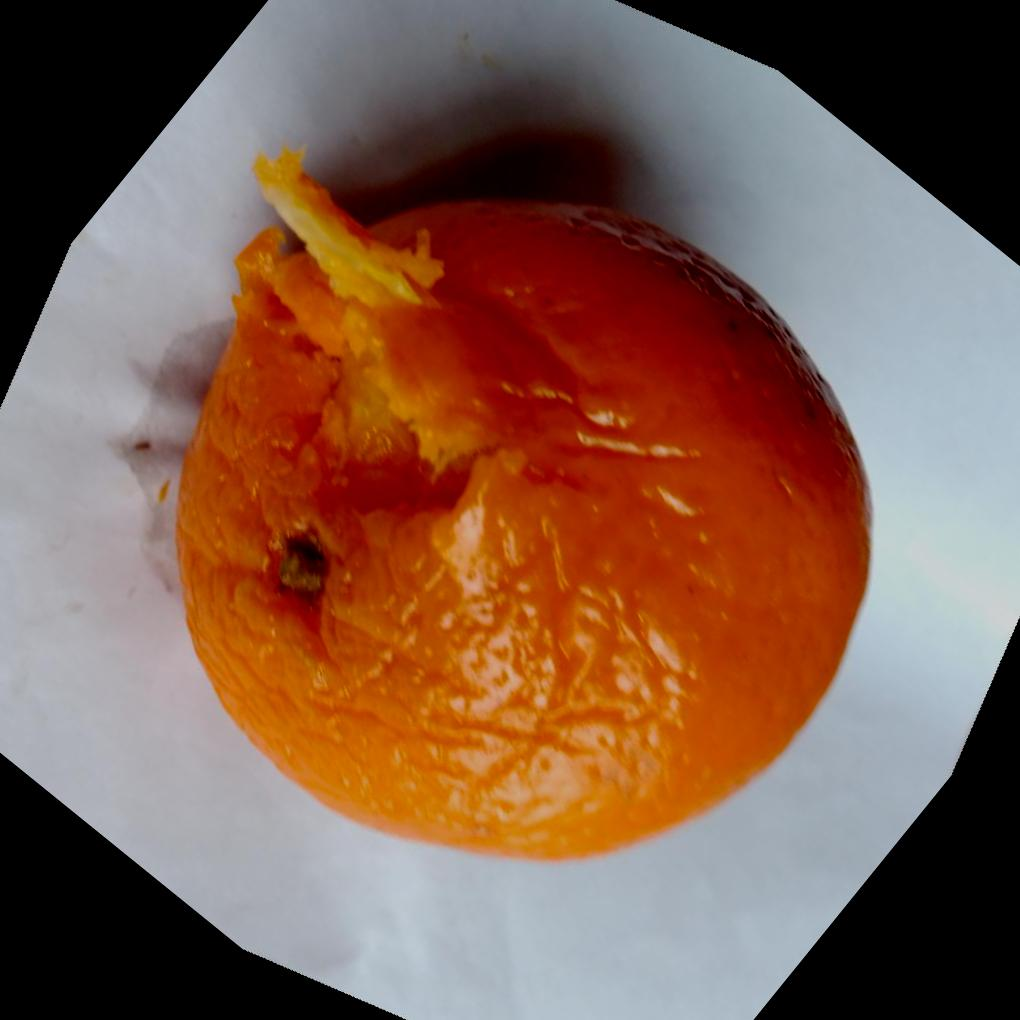FreshOrange: (167, 144, 873, 863)
